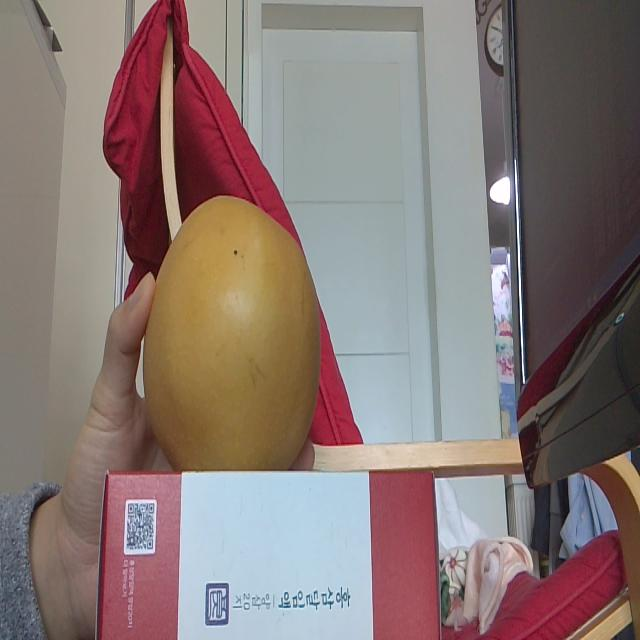pear: (143, 194, 317, 469)
